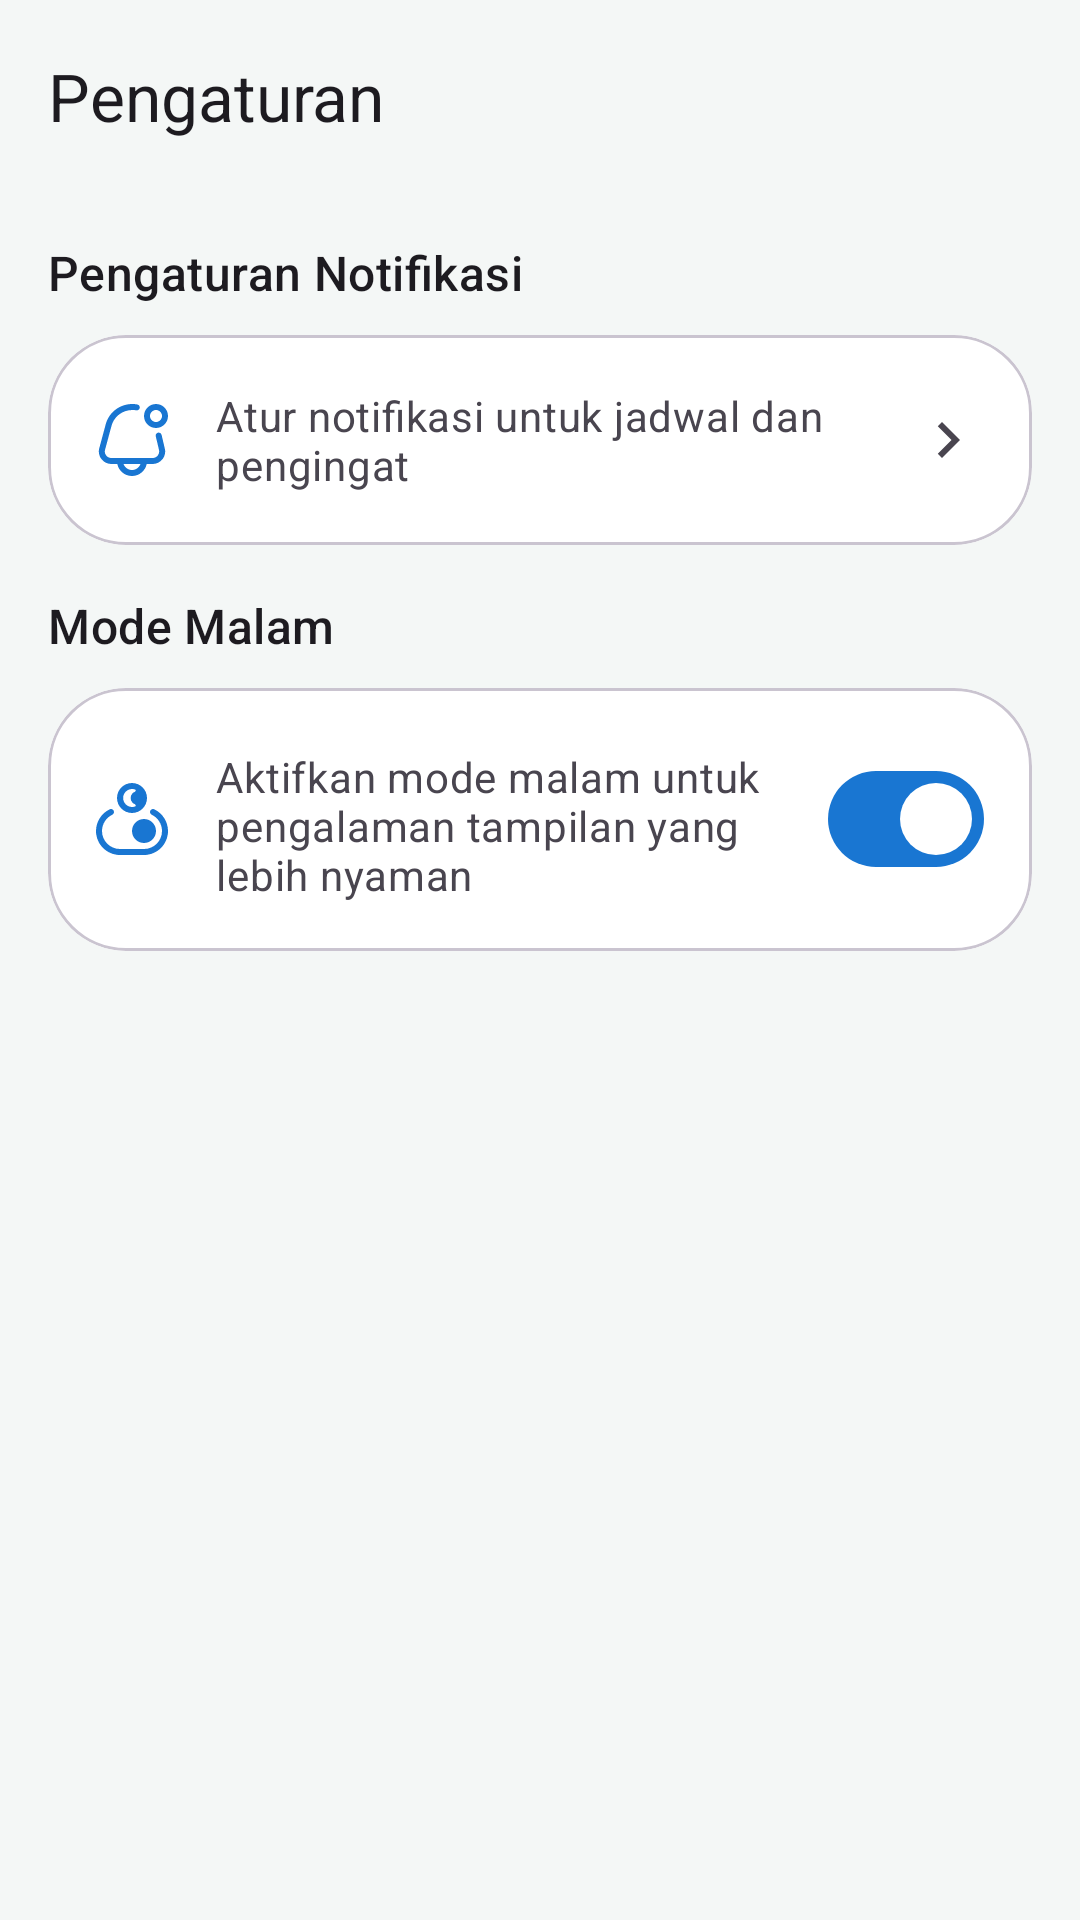

Where icons sit on this 1080px x 1920px app screen, as [left=x1, top=y1, right=x2, bottom=y2]:
chevron right: [left=938, top=422, right=960, bottom=458]
notification: [left=98, top=404, right=168, bottom=476]
